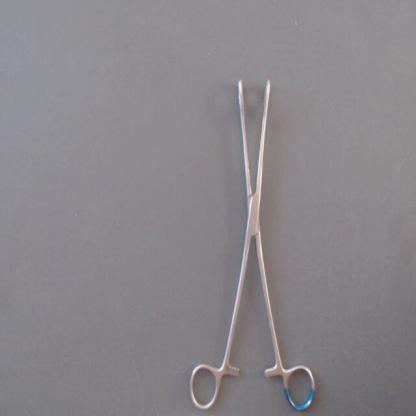Sponge Forceps: (183, 70, 322, 414)
